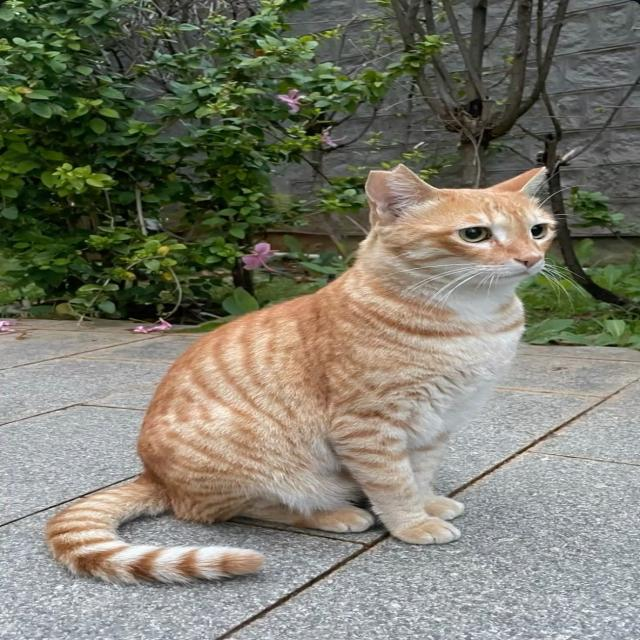sarman: (0, 153, 640, 594)
